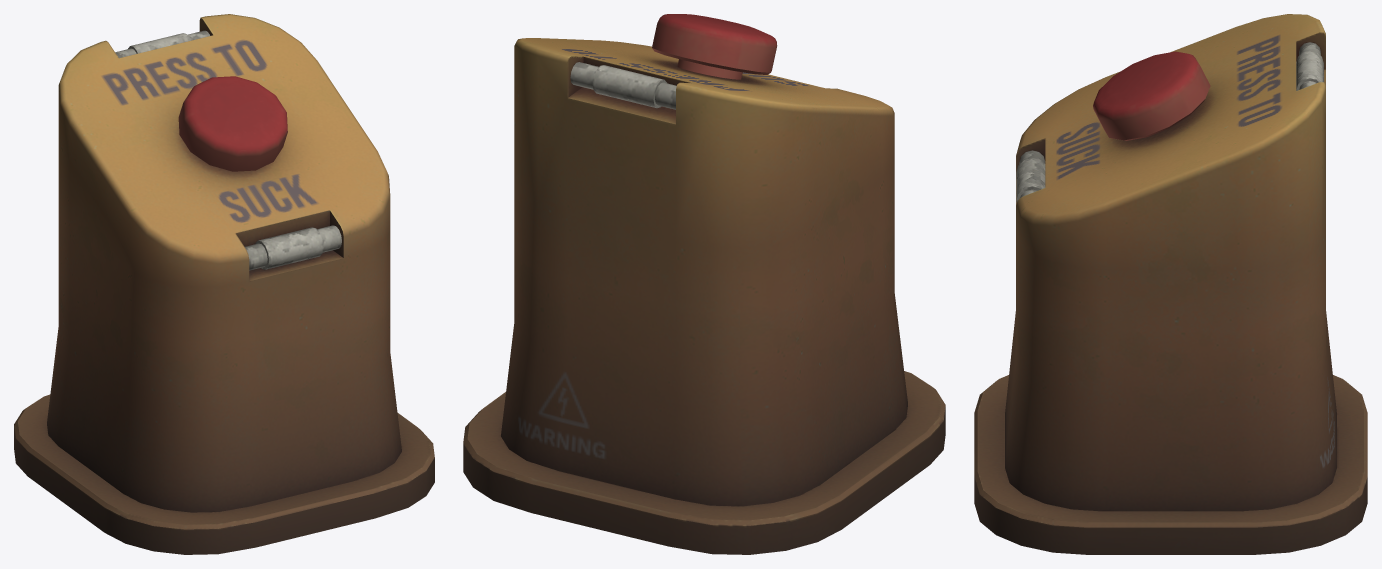
File: Button.glb
3 renders of one model, left to right at view 1: azimuth 30°, elevation 25°; view 2: azimuth 150°, elevation 25°; view 3: azimuth 270°, elevation 25°, orthographic. The views are drawn at different scales.
Parts seen in each view (by area): view 1: Cylinder.001; view 2: Cylinder.001; view 3: Cylinder.001.
Part boxes in pixels (x1,y1,x2,y2): Cylinder.001: (14, 14, 434, 554); Cylinder.001: (463, 14, 945, 554); Cylinder.001: (974, 14, 1367, 554).
Size of the model in its own units: 1.13 by 1.31 by 1.13.
1 material, 1 textured.
